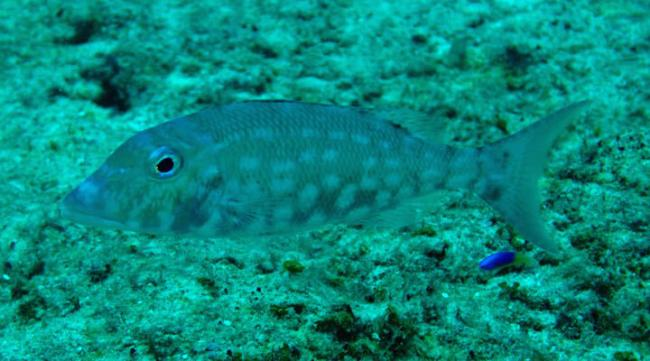fish: (64, 96, 593, 255)
